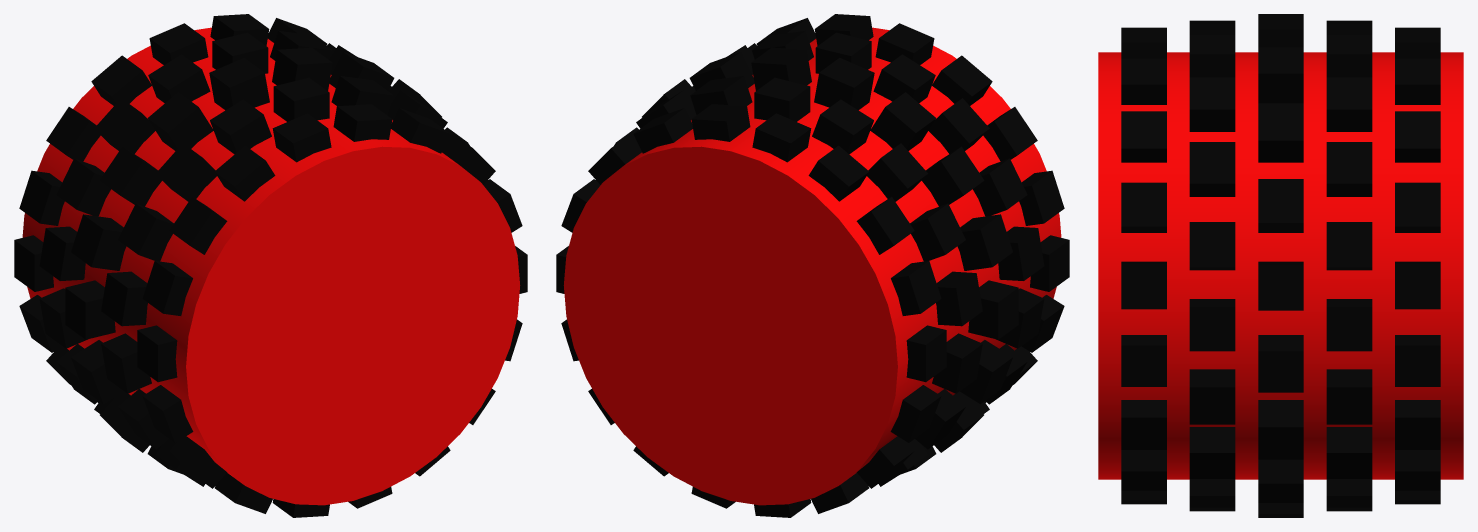
File: tyre.glb
The picture shows the model from 3 angles, left to right: view 1: azimuth 30°, elevation 25°; view 2: azimuth 150°, elevation 25°; view 3: azimuth 270°, elevation 25°; orthographic projection. The views are drawn at different scales.
Size of the model in its own units: 11 by 11.01 by 8.
